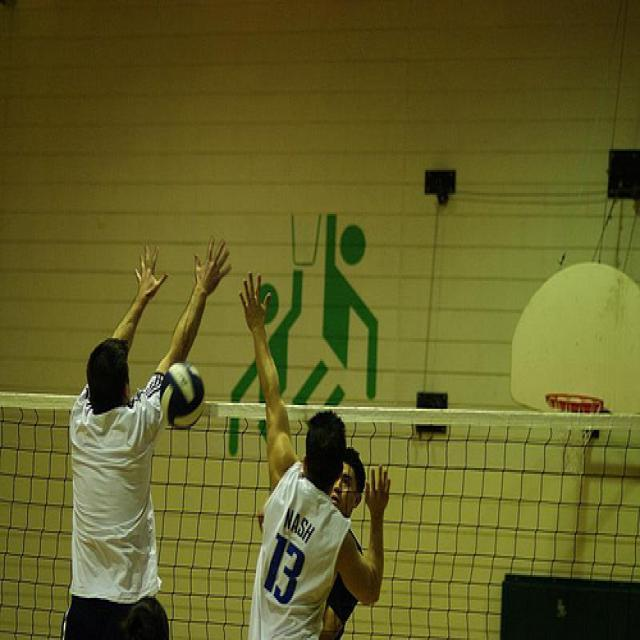volleyball: (157, 361, 205, 431)
